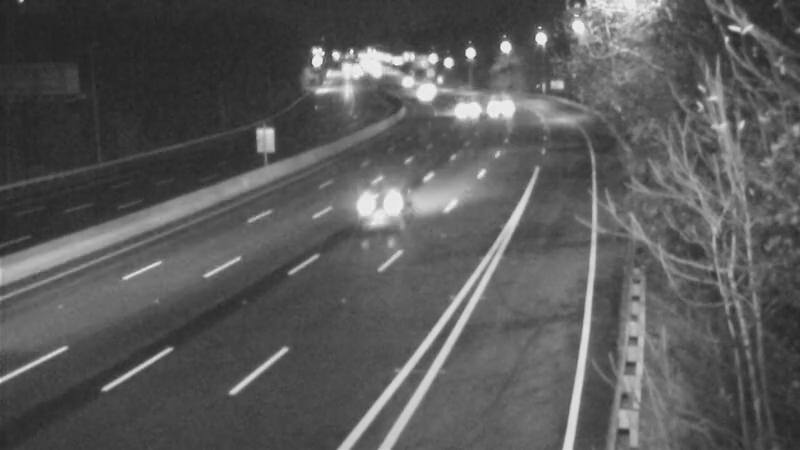vehicle: (348, 159, 428, 239), (399, 74, 449, 124), (436, 80, 486, 130), (471, 83, 521, 133)
